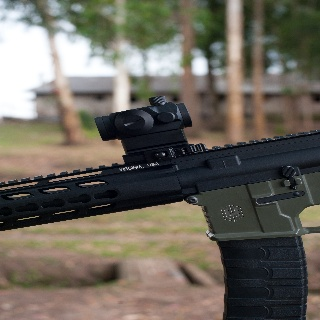rifle: (1, 94, 320, 320)
